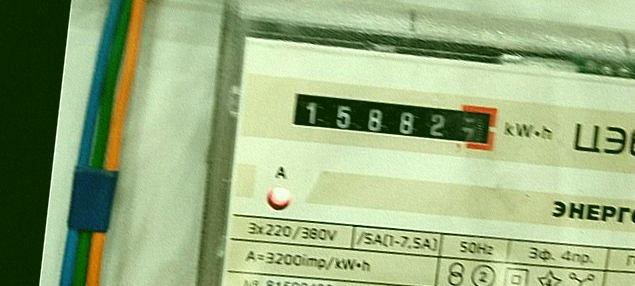1: (303, 98, 320, 125)
2: (428, 109, 447, 137)
5: (334, 102, 353, 128)
7: (459, 123, 475, 140)
8: (365, 105, 384, 131), (397, 107, 415, 133)
screen: (278, 76, 509, 161)
